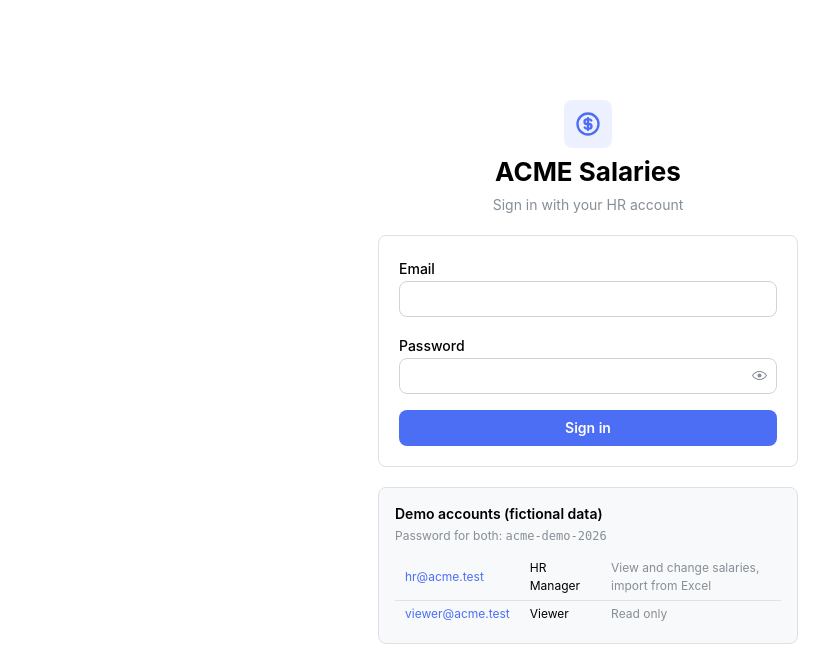
Scenario: sign-in › signs in and then shows the app
Type "hr@acme.test" into the field labelled "Email" at (588, 299), box [399,281,777,317]
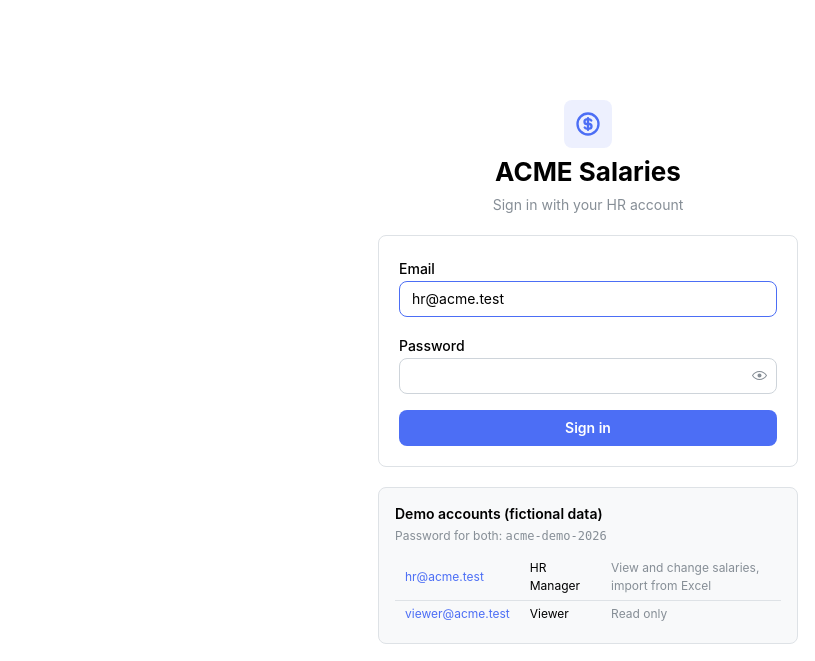
Type "acme-demo-2026" into the password field labelled "Password" at (588, 376), box [400,358,776,392]
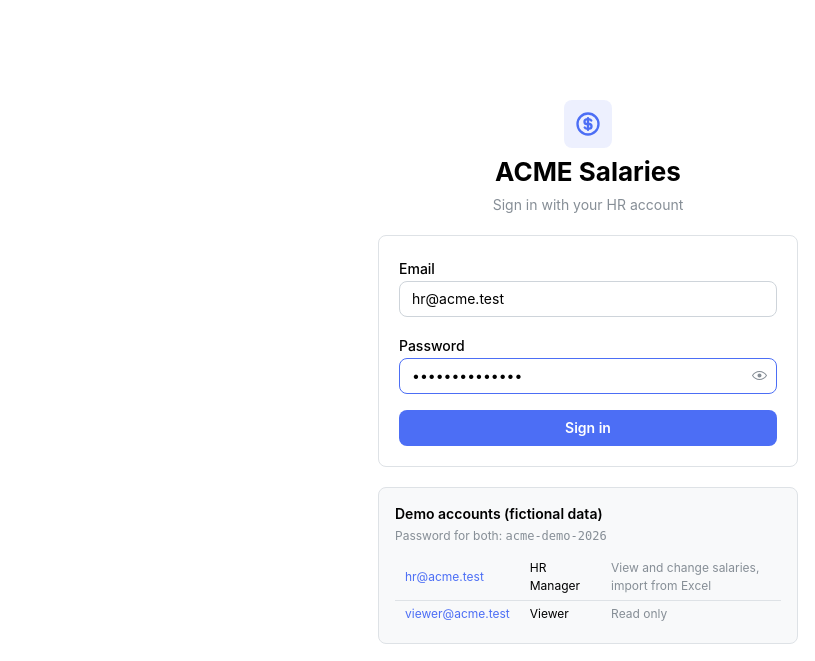
Click the button "Sign in" at (588, 428), box [399,410,777,446]
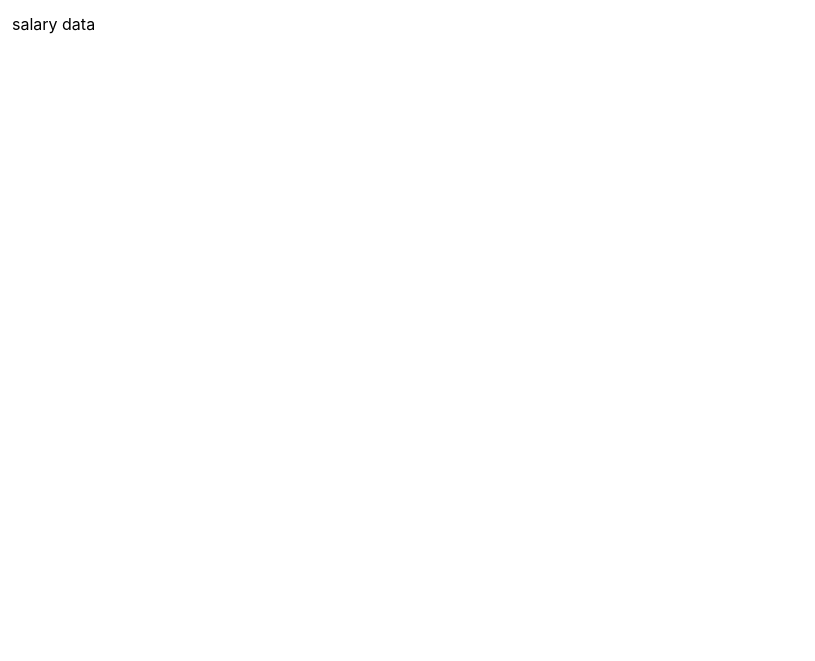
Expected: the text "salary data" is shown, [12,14,95,34]
